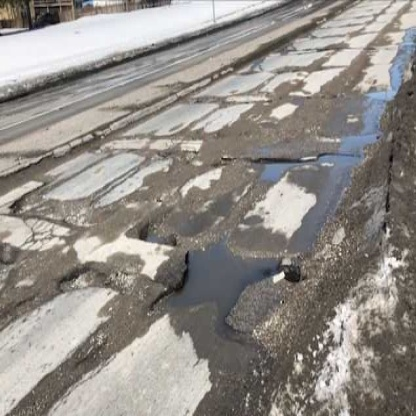pothole: (140, 227, 284, 336), (203, 143, 367, 191)
